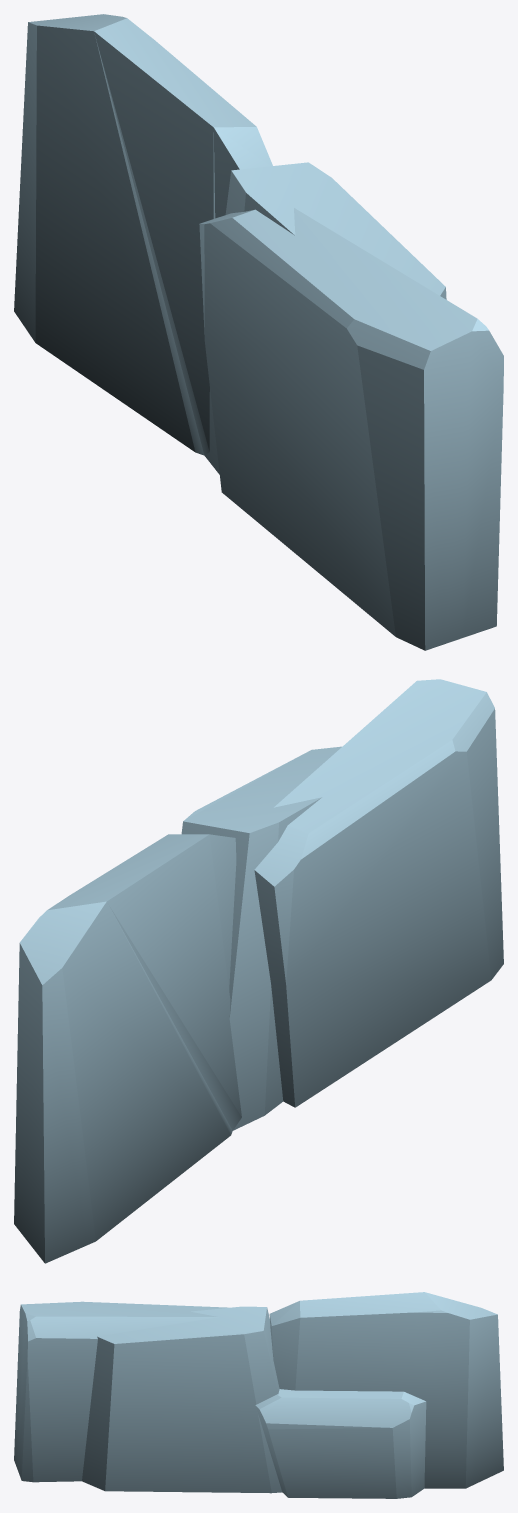
The model's file is Side-Cliff.fbx.
The picture shows the model from 3 angles, top to bottom: view 1: azimuth 30°, elevation 25°; view 2: azimuth 150°, elevation 25°; view 3: azimuth 270°, elevation 25°; orthographic projection. The views are drawn at different scales.
Parts seen in each view (by area): view 1: Baked_Rock_Side; view 2: Baked_Rock_Side; view 3: Baked_Rock_Side.
Boxes of the visible parts, x1,y1,x2,y2 form: Baked_Rock_Side: (14,14,503,650); Baked_Rock_Side: (14,679,503,1263); Baked_Rock_Side: (14,1292,503,1498).
Bounding box in the file's own units: 323 × 617 × 1519.
